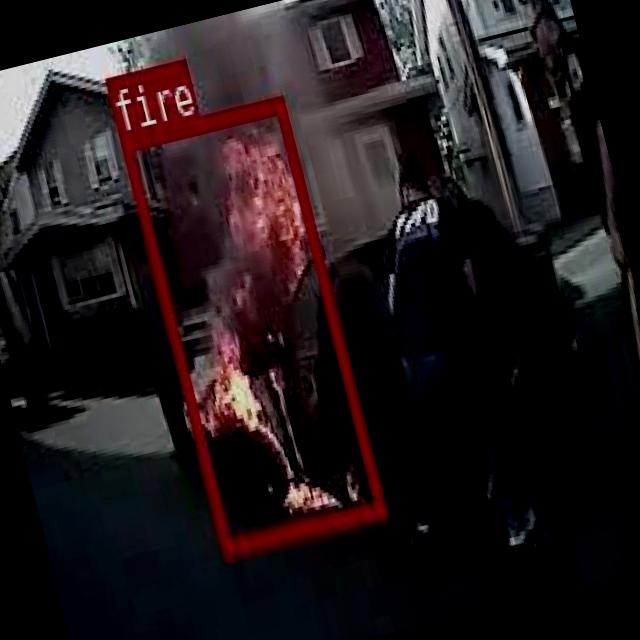fire: (119, 95, 384, 552)
